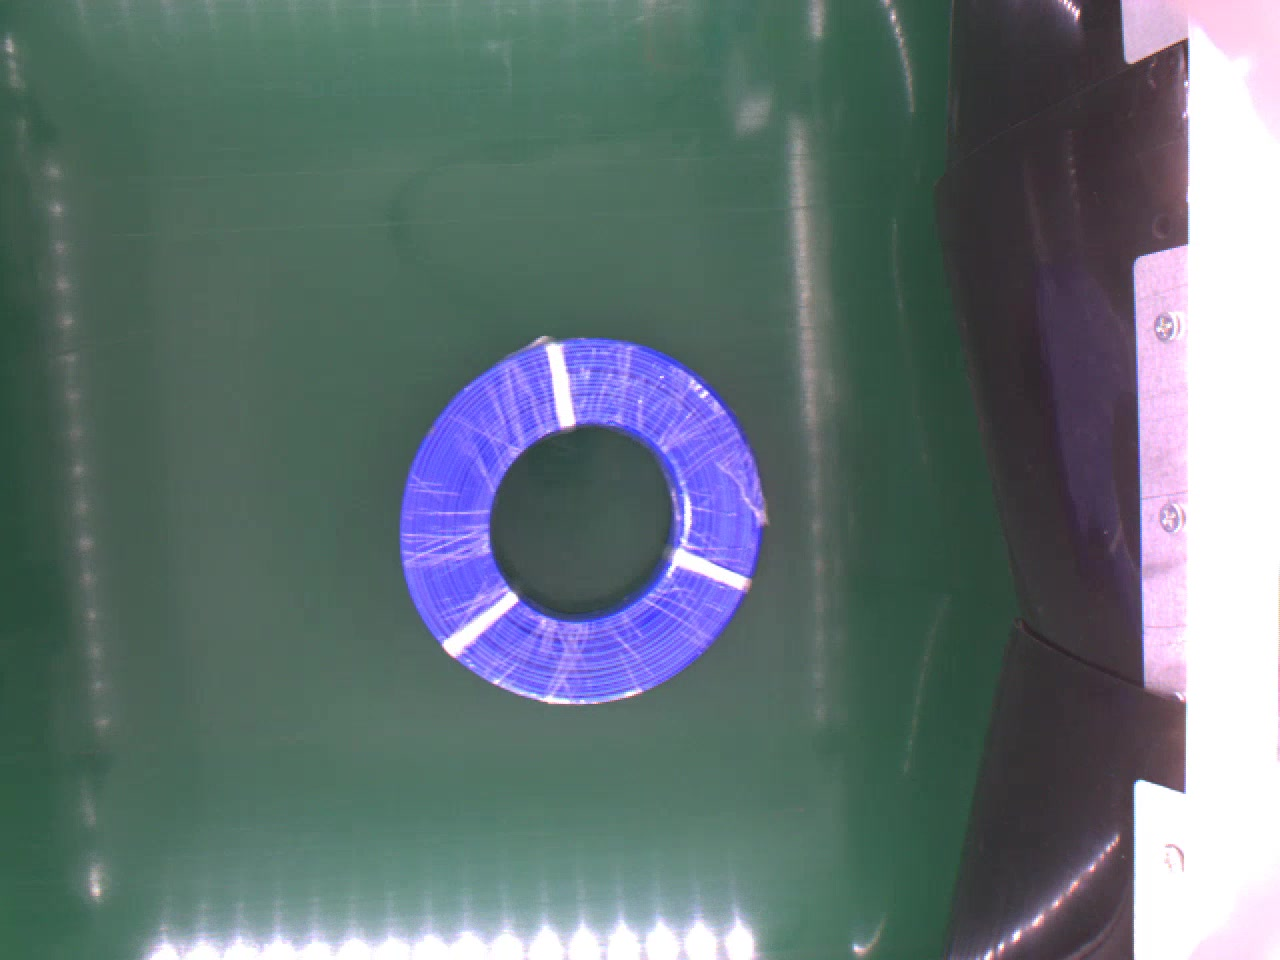blue: (388, 331, 780, 715)
